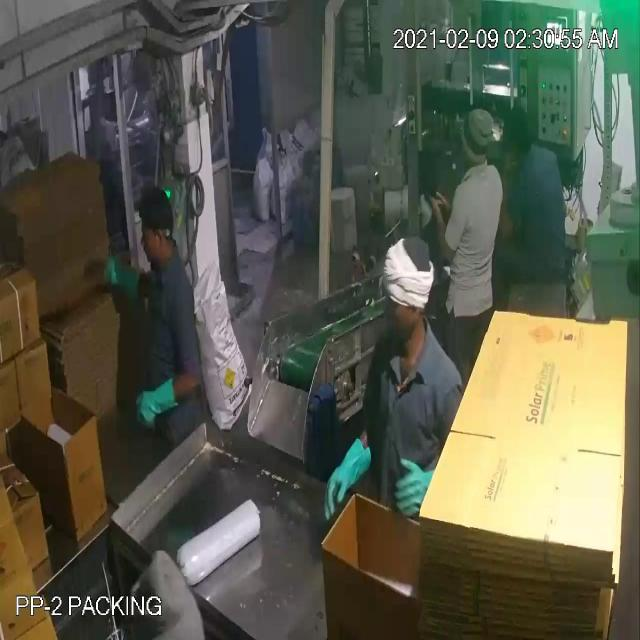gloves: (316, 429, 376, 526), (387, 452, 442, 527), (126, 373, 193, 434), (92, 248, 150, 317)
no-gloves: (421, 183, 462, 270)
